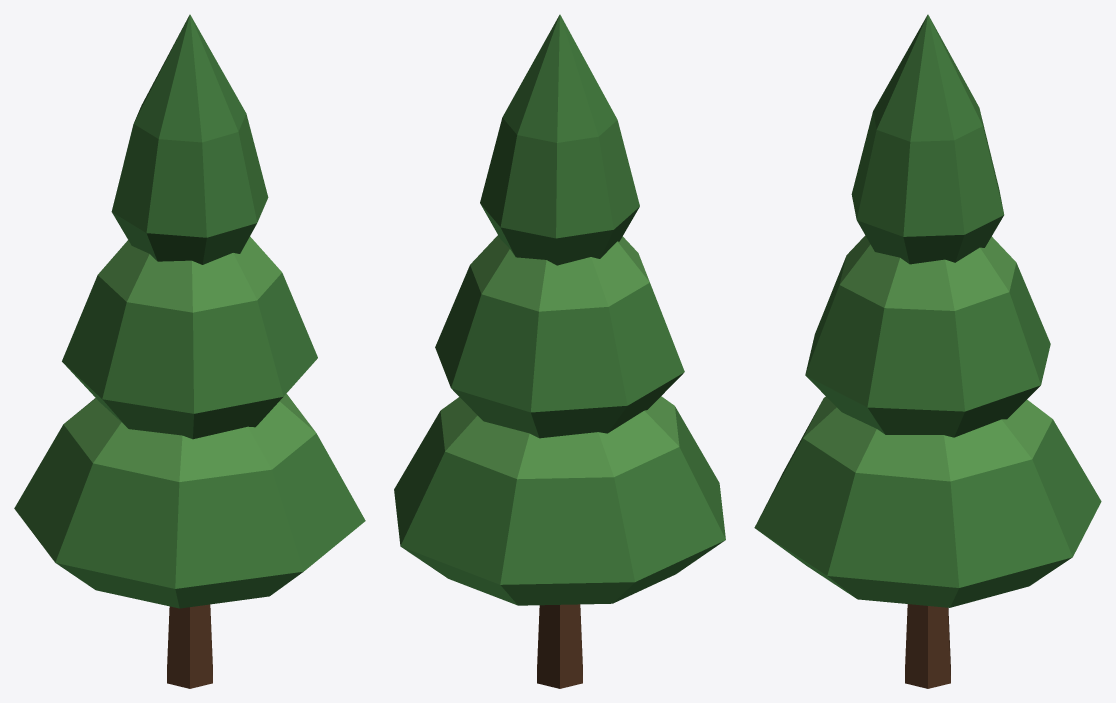
The model's file is tree_pineRoundA.glb.
3 renders of one model, left to right at view 1: azimuth 30°, elevation 25°; view 2: azimuth 150°, elevation 25°; view 3: azimuth 270°, elevation 25°, orthographic.
Parts seen in each view (by area): view 1: tree_pineRoundA; view 2: tree_pineRoundA; view 3: tree_pineRoundA.
Part boxes in pixels (x1=…): tree_pineRoundA: x1=14, y1=14, x2=365, y2=688; tree_pineRoundA: x1=394, y1=14, x2=725, y2=688; tree_pineRoundA: x1=754, y1=14, x2=1101, y2=688.
Size of the model in its own units: 0.6495 by 1.37 by 0.6495.
Materials: 1 (1 with a texture image).
